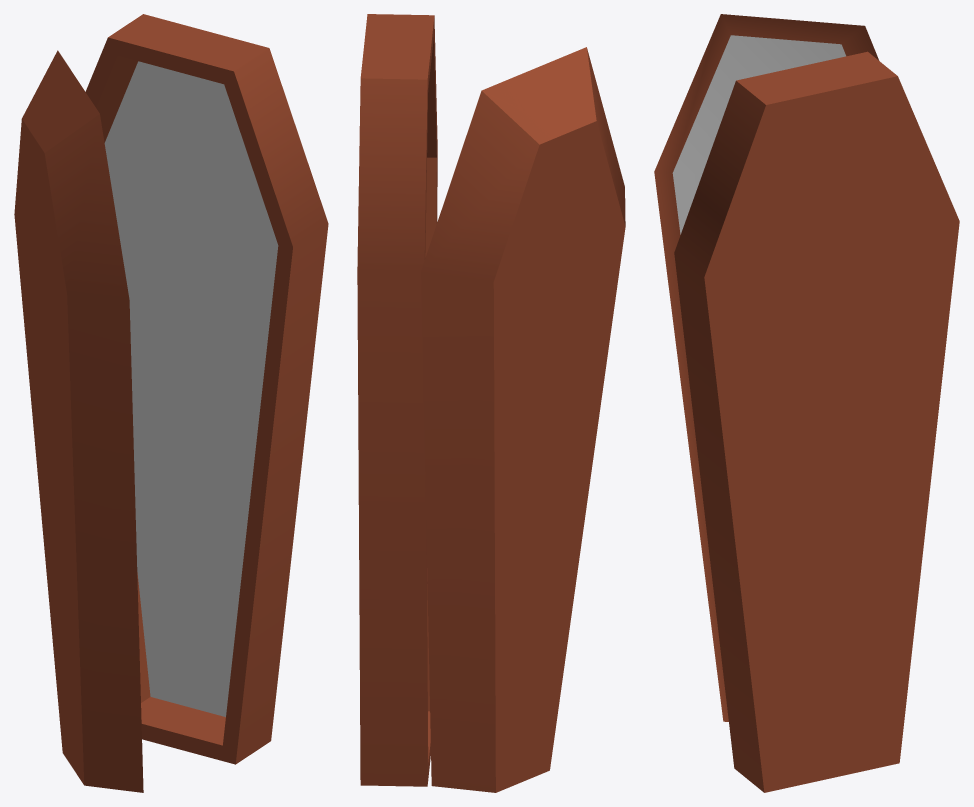
File: Coffin.fbx
The picture shows the model from 3 angles, left to right: view 1: azimuth 30°, elevation 25°; view 2: azimuth 150°, elevation 25°; view 3: azimuth 270°, elevation 25°; orthographic projection. The views are drawn at different scales.
Parts seen in each view (by area): view 1: Coffin; view 2: Coffin; view 3: Coffin.
Part boxes in pixels (box(x1,y1,x2,y2)): Coffin: box(14, 14, 328, 792); Coffin: box(357, 14, 625, 792); Coffin: box(654, 14, 959, 792).
Bounding box in the file's own units: 6.88 × 17.9 × 7.17.
